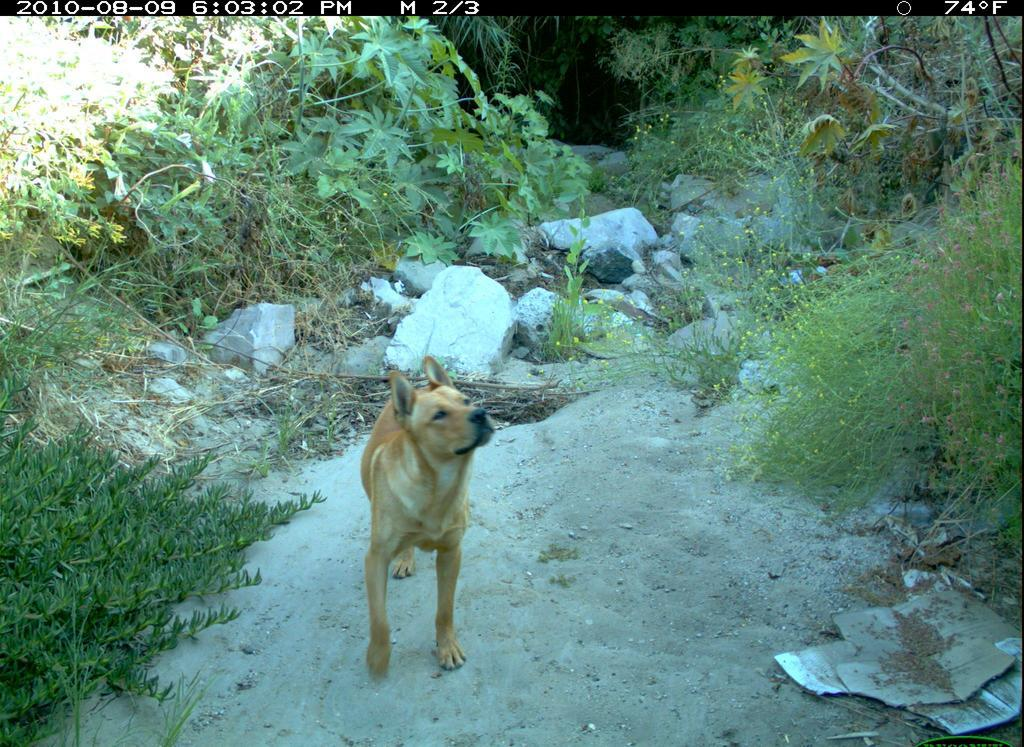dog: (342, 337, 509, 683)
